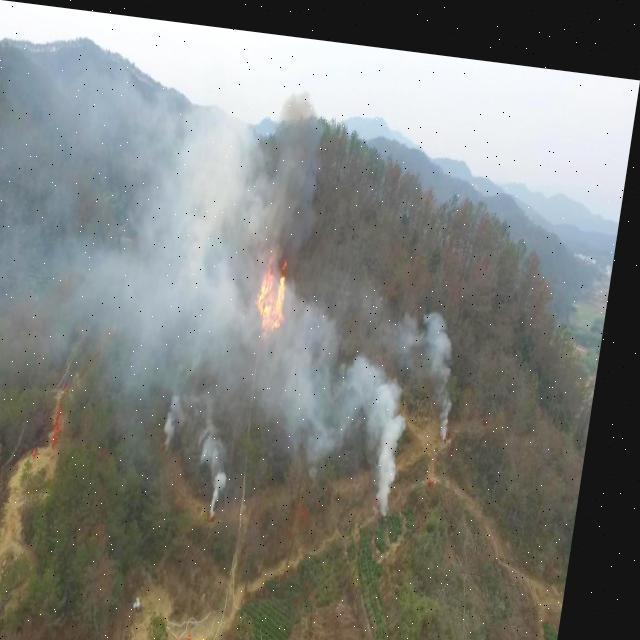Fire: (230, 200, 331, 354)
